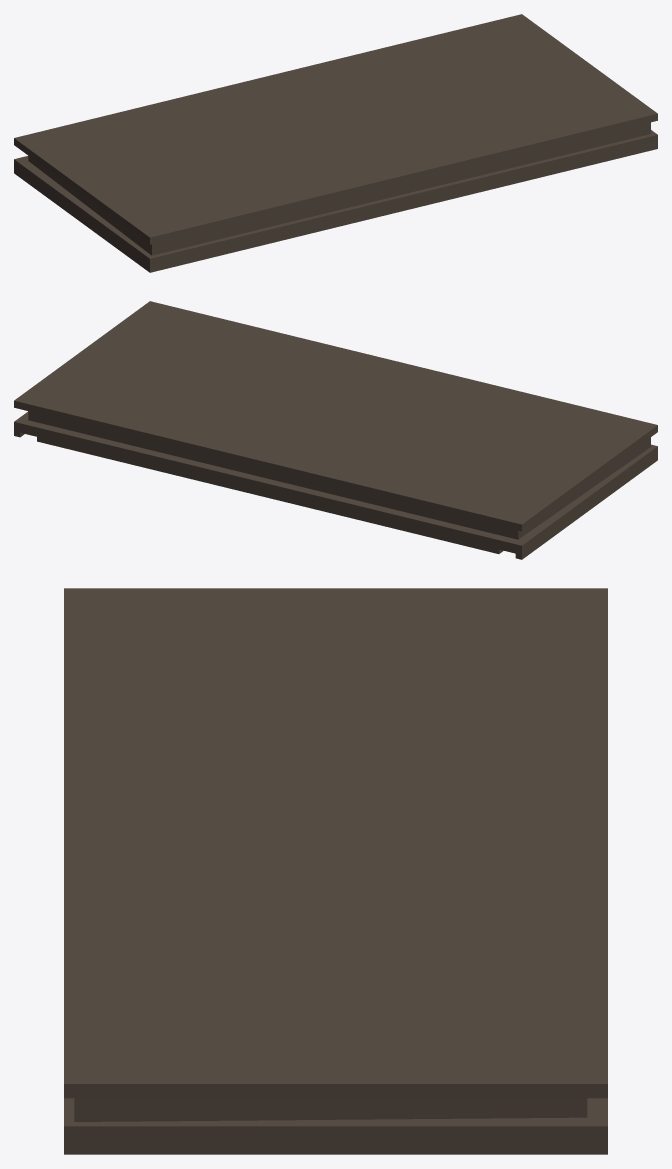
File: boarder_chest_top.fbx
3 views of the same model, one above another, from view 1: azimuth 30°, elevation 25°; view 2: azimuth 150°, elevation 25°; view 3: azimuth 270°, elevation 25° (orthographic). The views are drawn at different scales.
Parts seen in each view (by area): view 1: boarder_chest_top_right; view 2: boarder_chest_top_right; view 3: boarder_chest_top_right.
Boxes of the visible parts, <box> form: boarder_chest_top_right: <box>14,14,657,272</box>; boarder_chest_top_right: <box>14,301,657,559</box>; boarder_chest_top_right: <box>64,588,607,1154</box>.
Bounding box in the file's own units: 5650 × 375 × 2620.
